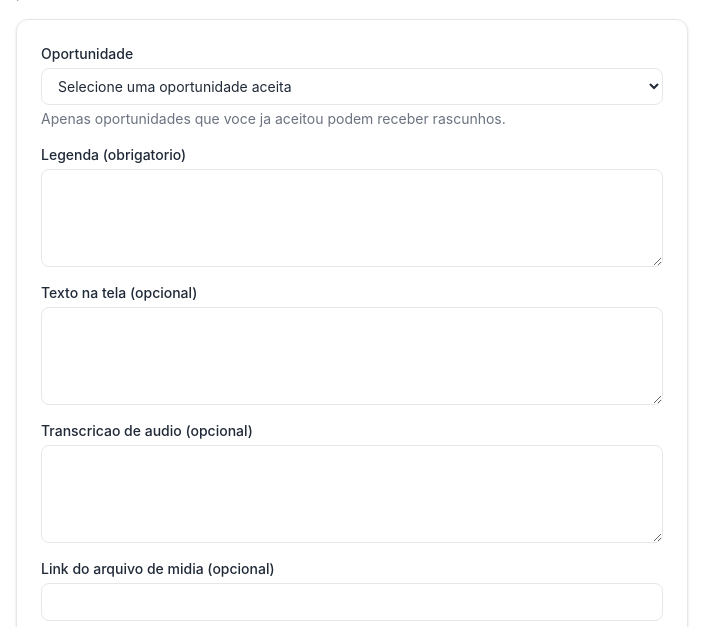
NewDraftPage - US-32a, US-32b › shows a specific message when there is no accepted opportunity behind the submission
This screenshot has width=705, height=627.
Select "Acme Cosmeticos · instagram_reel" in the dropdown labelled "Oportunidade" at (352, 86), box [41,68,663,105]
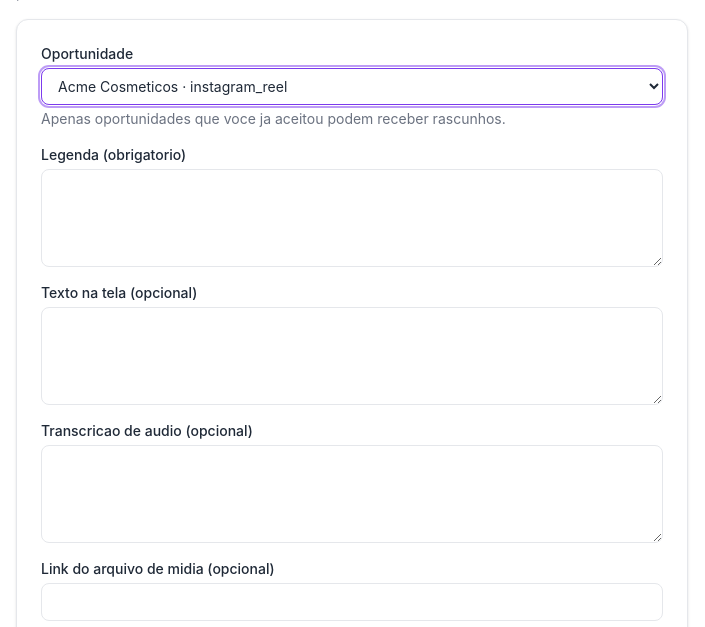
Type "Esse serum mudou minha pele em 14 dias!" into the text box labelled "Legenda (obrigatorio)".
click(352, 218); type("Esse serum mudou minha pele em 14 dias!")  # box [41,169,663,267]
(page scrolled)
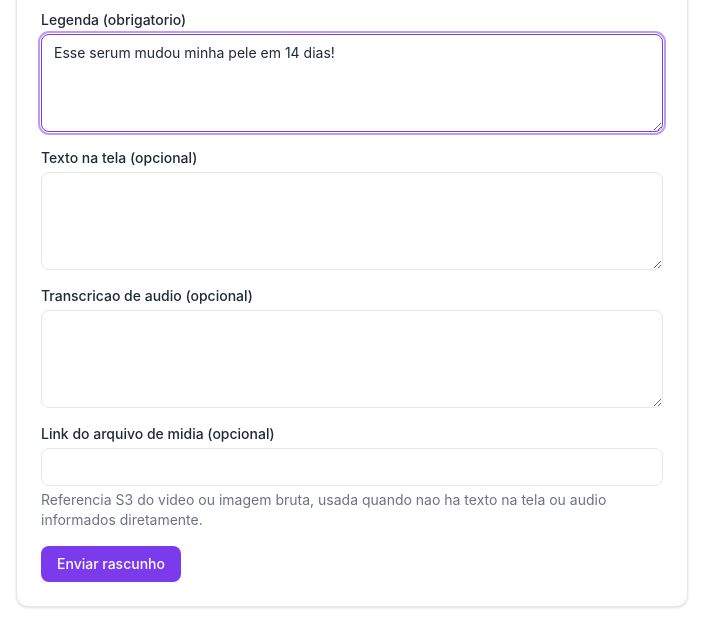
Click the button "Enviar rascunho".
click(111, 564)  # box [41,546,181,582]
(page scrolled)
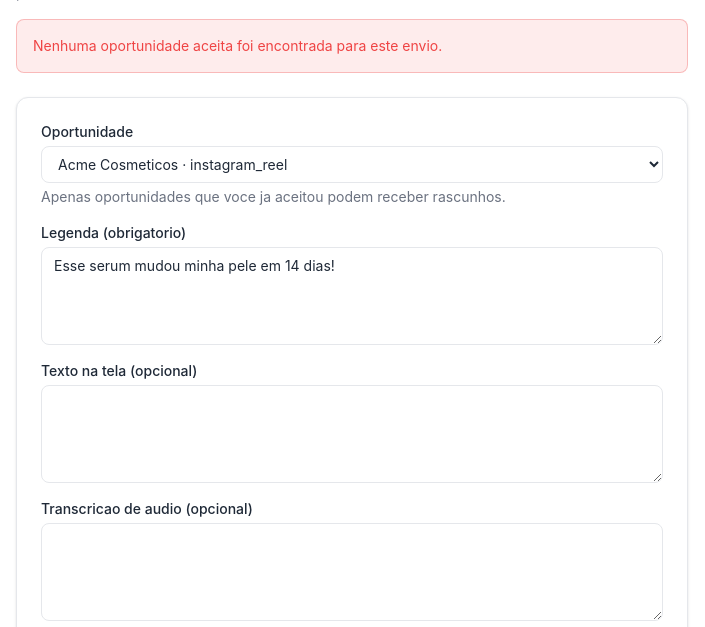
Result: the text "Nenhuma oportunidade aceita foi encontrada para este envio." is shown at [16,19,688,73]
